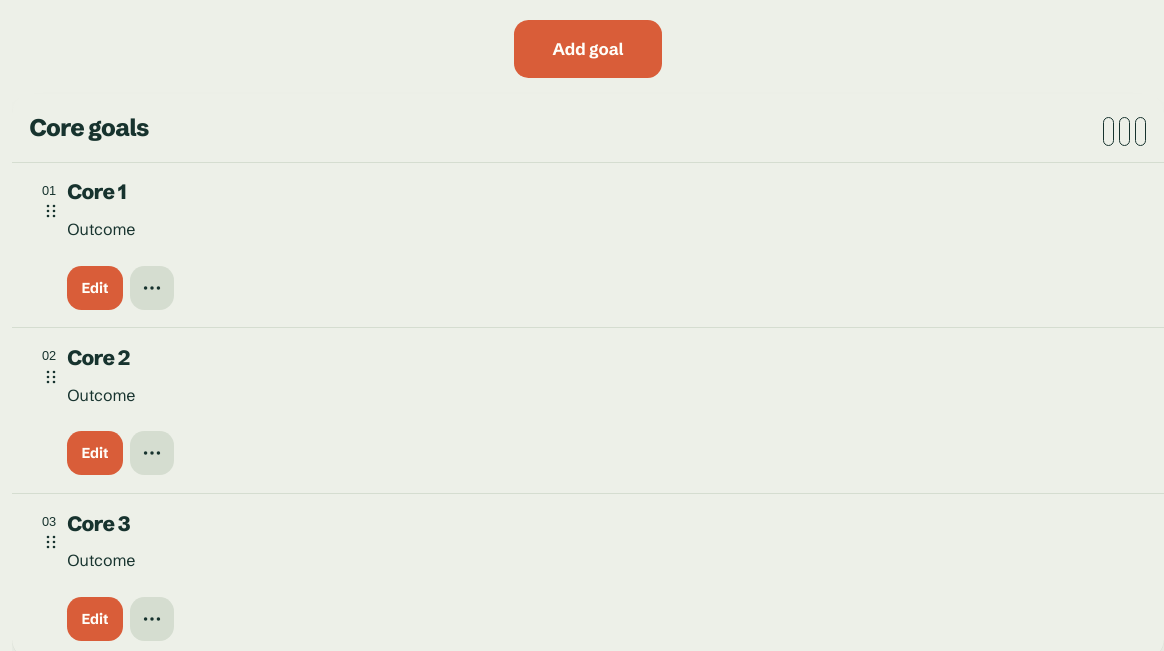
Scenario: GoalManager › starts a new goal on supporting once three core goals are active
The width and height of the screenshot is (1164, 651).
Click the button "Add goal" at coordinates (588, 49), box [514, 20, 662, 78]
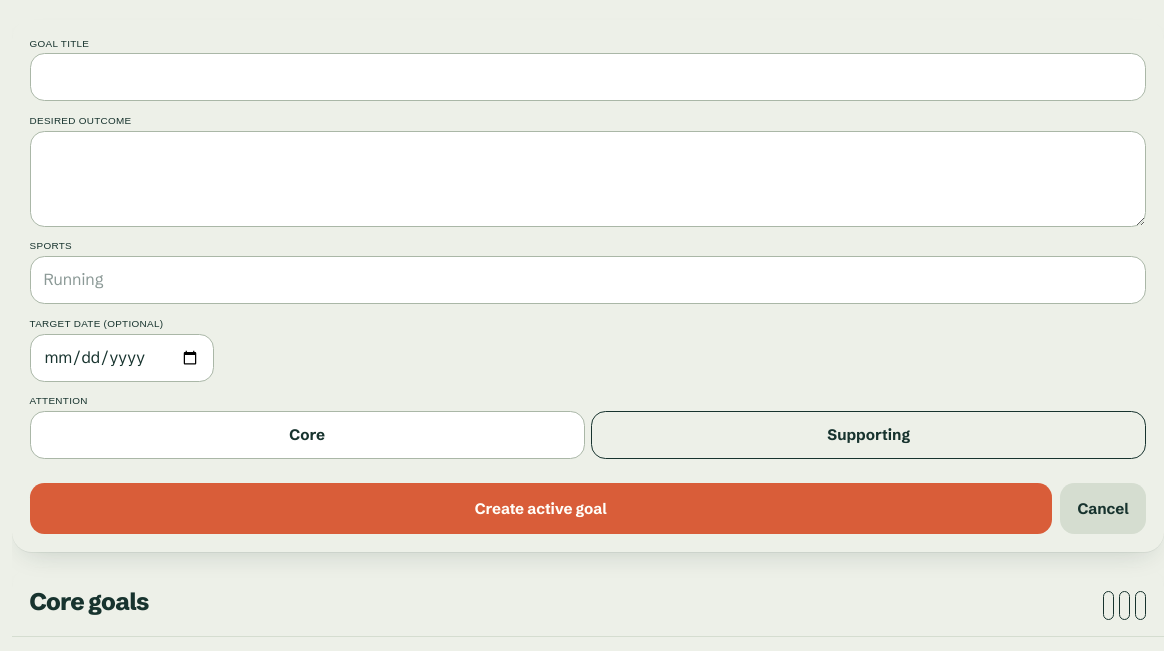
Check: the radio button labelled "Supporting" is checked, box [591, 411, 1146, 459]
